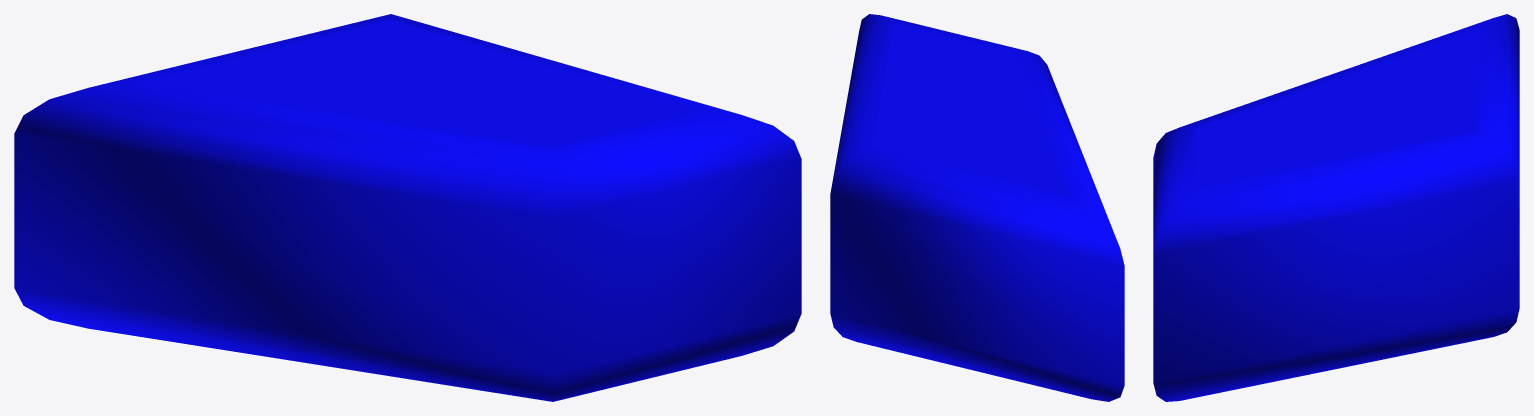
3 views of the same model, side by side, from view 1: azimuth 30°, elevation 25°; view 2: azimuth 150°, elevation 25°; view 3: azimuth 270°, elevation 25° (orthographic). The views are drawn at different scales.
Visible parts, largest first — view 1: 96; view 2: 96; view 3: 96.
Part boxes in pixels (x1,y1,x2,y2): 96: (14, 14, 801, 401); 96: (830, 14, 1124, 401); 96: (1153, 14, 1519, 401).
Bounding box in the file's own units: 0.381 × 0.16 × 0.2608.
